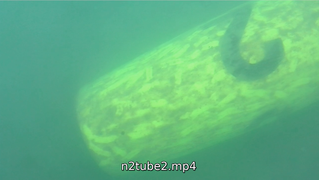2: (200, 1, 285, 82), (244, 104, 298, 132)
pipe: (74, 1, 319, 179)
